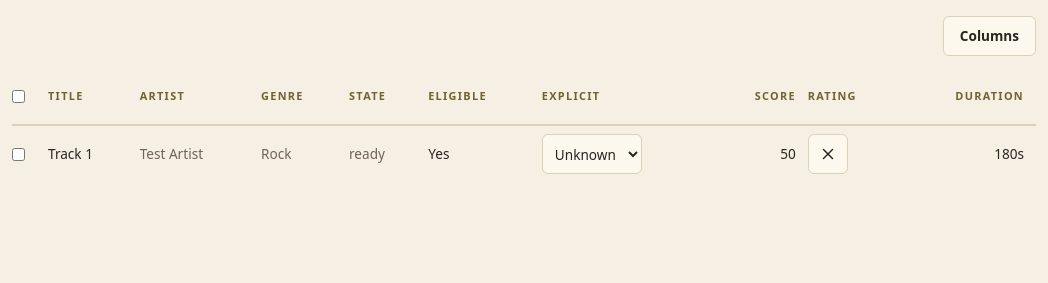
Test case: Feature: Year, BPM, and energy in the catalog — on demand › Scenario: the new cells format their signals › renders year plain, bpm to one decimal, and energy to two decimals (F49.2)
Click the button "Columns" at (989, 36), box top-left (943, 16), bottom-right (1036, 56)
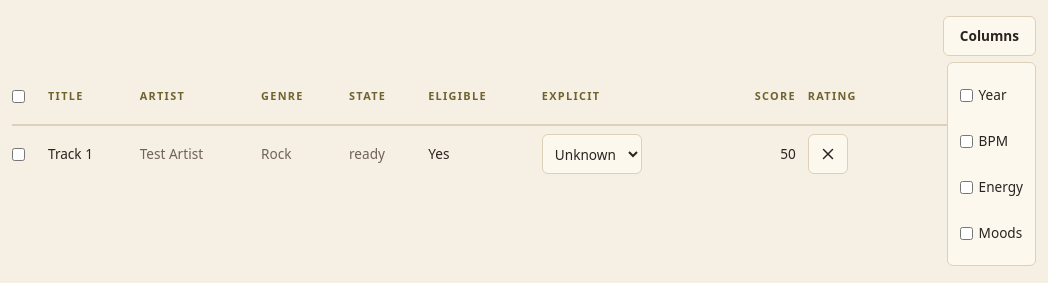
Click the checkbox labelled "Year" at (966, 95), box top-left (960, 88), bottom-right (973, 102)
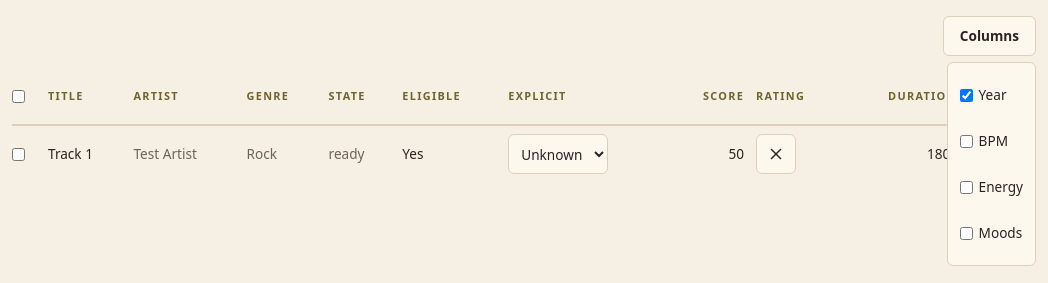
Click the checkbox labelled "BPM" at (966, 141), box top-left (960, 134), bottom-right (973, 148)
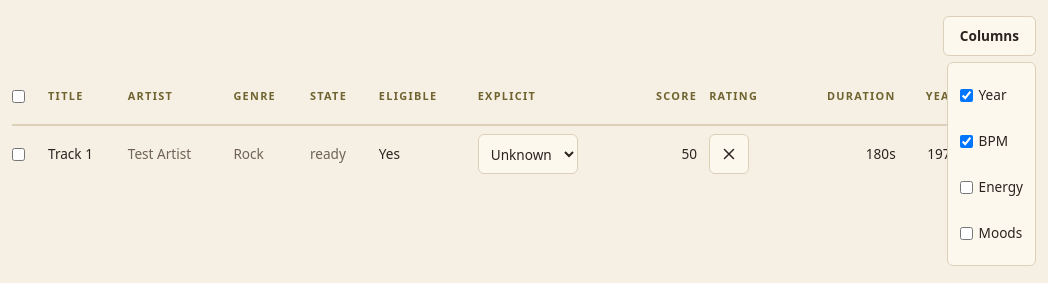
Click the checkbox labelled "Energy" at (966, 187), box top-left (960, 180), bottom-right (973, 194)
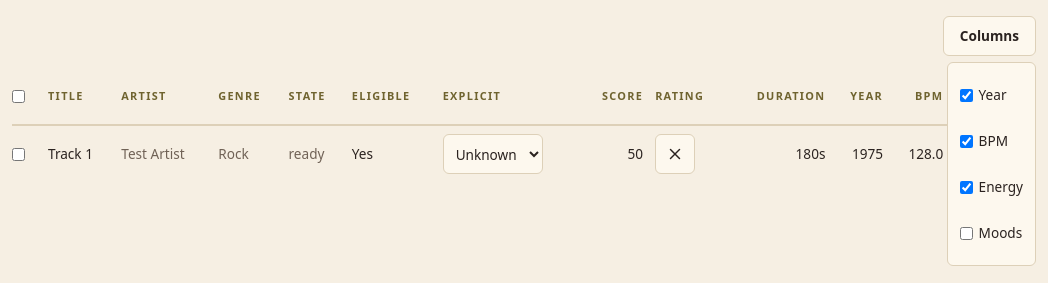
Result: the text "1975" is shown at top-left (837, 125), bottom-right (895, 182)
Result: the text "128.0" is shown at top-left (895, 125), bottom-right (955, 182)
Result: the text "0.70" is shown at top-left (955, 125), bottom-right (1036, 182)
